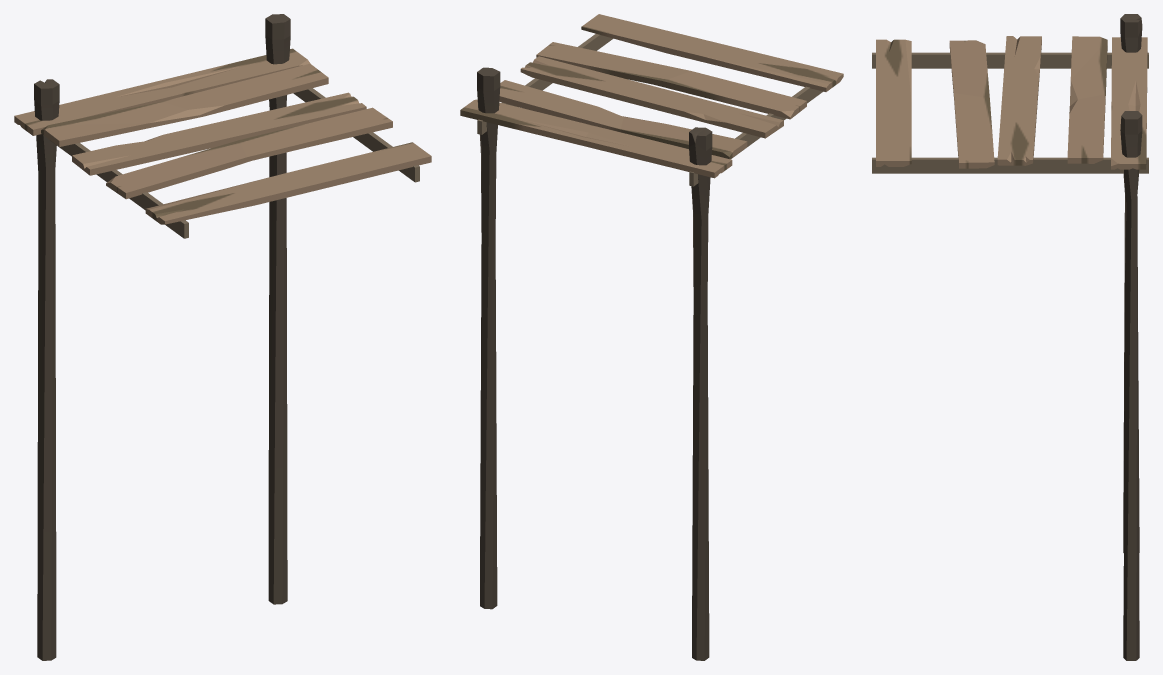
File: SM_Env_Dock_02.glb
The picture shows the model from 3 angles, left to right: view 1: azimuth 30°, elevation 25°; view 2: azimuth 150°, elevation 25°; view 3: azimuth 270°, elevation 25°; orthographic projection. The views are drawn at different scales.
Visible parts, largest first — view 1: SM_Env_Dock_02; view 2: SM_Env_Dock_02; view 3: SM_Env_Dock_02.
Boxes of the visible parts, <box> form: SM_Env_Dock_02: <box>14,14,431,660</box>; SM_Env_Dock_02: <box>460,14,843,660</box>; SM_Env_Dock_02: <box>872,14,1148,660</box>.
Size of the model in its own units: 3.82 by 7.65 by 3.53.
1 material, 1 textured.
